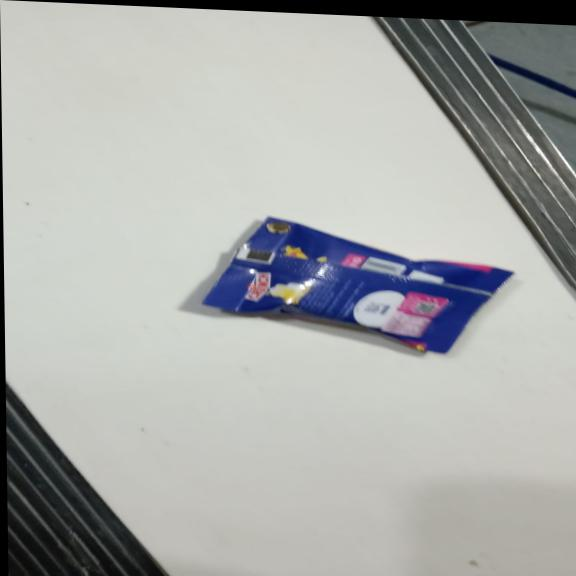Plastik: (203, 212, 514, 358)
